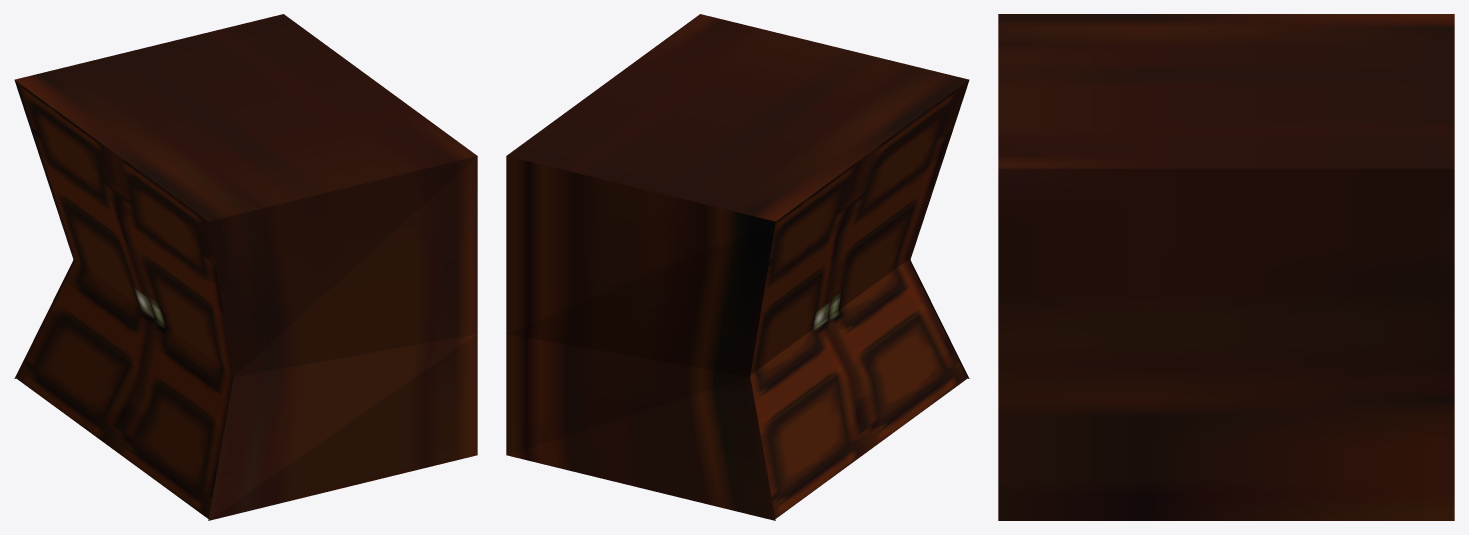
Rendered from Kasten_Nieder_2260.glb.
3 renders of one model, left to right at view 1: azimuth 30°, elevation 25°; view 2: azimuth 150°, elevation 25°; view 3: azimuth 270°, elevation 25°, orthographic. The views are drawn at different scales.
Visible parts, largest first — view 1: pCubeShape75, pCubeShape74; view 2: pCubeShape75, pCubeShape74; view 3: pCubeShape75.
Boxes of the visible parts, box(x1,y1,x2,y2) form: pCubeShape75: box(14, 14, 477, 520); pCubeShape74: box(16, 82, 233, 518); pCubeShape75: box(506, 14, 969, 520); pCubeShape74: box(750, 82, 967, 518); pCubeShape75: box(998, 14, 1454, 520).
Bounding box in the file's own units: 0.1507 × 0.1601 × 0.188.
Materials: 2 (2 with a texture image).
